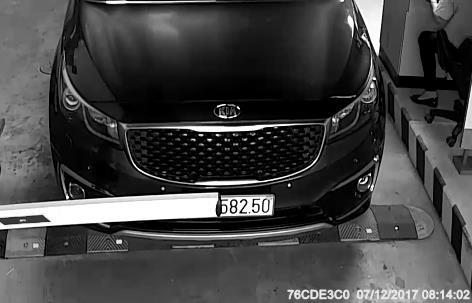License-plate: (167, 183, 285, 225)
